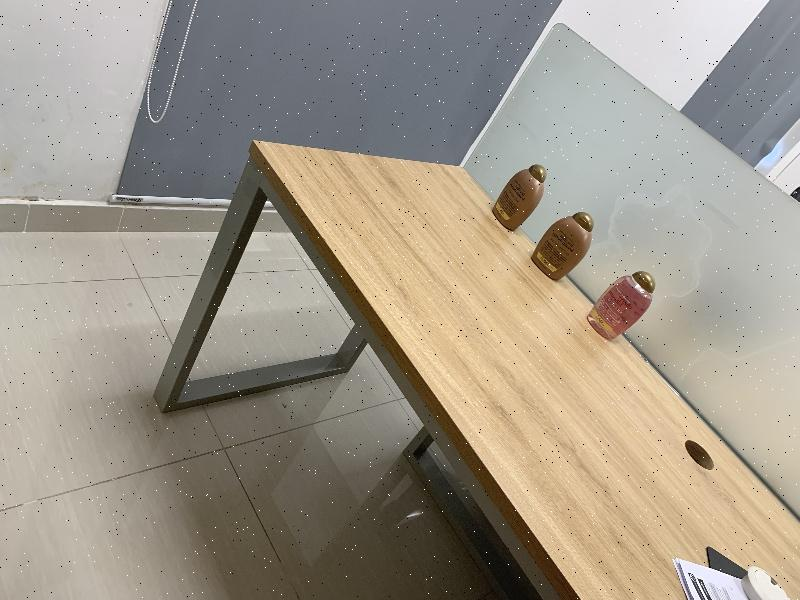BrazilianKeratinTherapy_Shampoo: (492, 164, 548, 231)
BrazilianKerationTherapy_Conditioner: (531, 212, 594, 282)
CherryBlossom_Shampoo: (587, 271, 656, 342)
